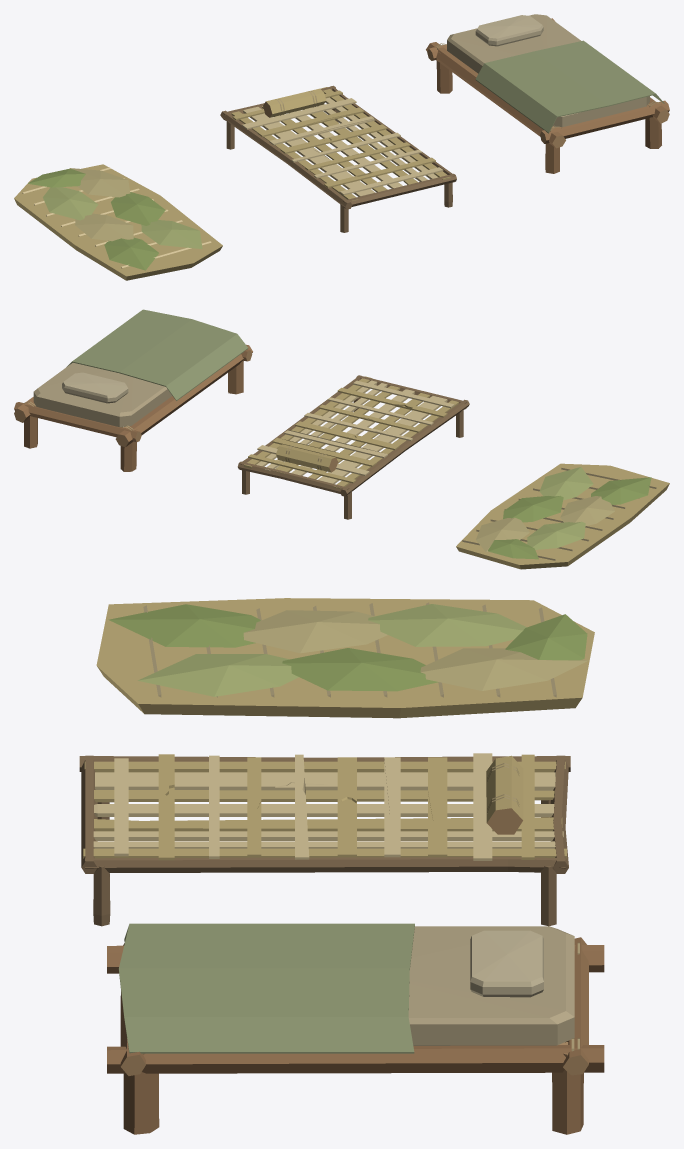
Rendered from Yatak.fbx.
3 views of the same model, one above another, from view 1: azimuth 30°, elevation 25°; view 2: azimuth 150°, elevation 25°; view 3: azimuth 270°, elevation 25° (orthographic). The views are drawn at different scales.
Visible parts, largest first — view 1: Seviye 4 • Yıpranmış Bez Örtü, Seviye 3 • Bağlanmış Ot Baş Desteği • Parça 03, Seviye 1 • İri Yapraklar • Parça 02; view 2: Seviye 4 • Yıpranmış Bez Örtü, Seviye 3 • Bağlanmış Ot Baş Desteği • Parça 03, Seviye 1 • İri Yapraklar • Parça 02; view 3: Seviye 4 • Yıpranmış Bez Örtü, Seviye 3 • Bağlanmış Ot Baş Desteği • Parça 03, Seviye 1 • İri Yapraklar • Parça 02.
Boxes of the visible parts, x1,y1,x2,y2 form: Seviye 4 • Yıpranmış Bez Örtü: (426,14,669,173); Seviye 3 • Bağlanmış Ot Baş Desteği • Parça 03: (220,85,456,232); Seviye 1 • İri Yapraklar • Parça 02: (14,164,222,280); Seviye 4 • Yıpranmış Bez Örtü: (14,309,252,471); Seviye 3 • Bağlanmış Ot Baş Desteği • Parça 03: (237,375,469,519); Seviye 1 • İri Yapraklar • Parça 02: (456,463,669,569); Seviye 4 • Yıpranmış Bez Örtü: (107,923,604,1134); Seviye 3 • Bağlanmış Ot Baş Desteği • Parça 03: (79,753,570,926); Seviye 1 • İri Yapraklar • Parça 02: (96,598,594,718).
Size of the model in its own units: 5.1 by 0.5649 by 2.14.
